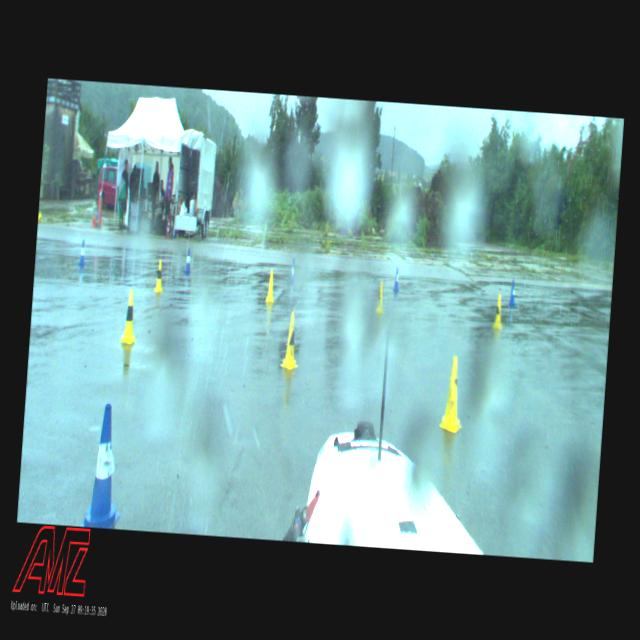blue_cone: (80, 402, 128, 528), (77, 238, 87, 267), (508, 278, 517, 308), (184, 247, 192, 275), (392, 266, 400, 292), (289, 256, 296, 283)
yellow_cone: (438, 355, 466, 433), (278, 310, 302, 370), (120, 288, 140, 344), (153, 257, 165, 293), (492, 294, 504, 329), (375, 278, 386, 314), (265, 268, 276, 303)
